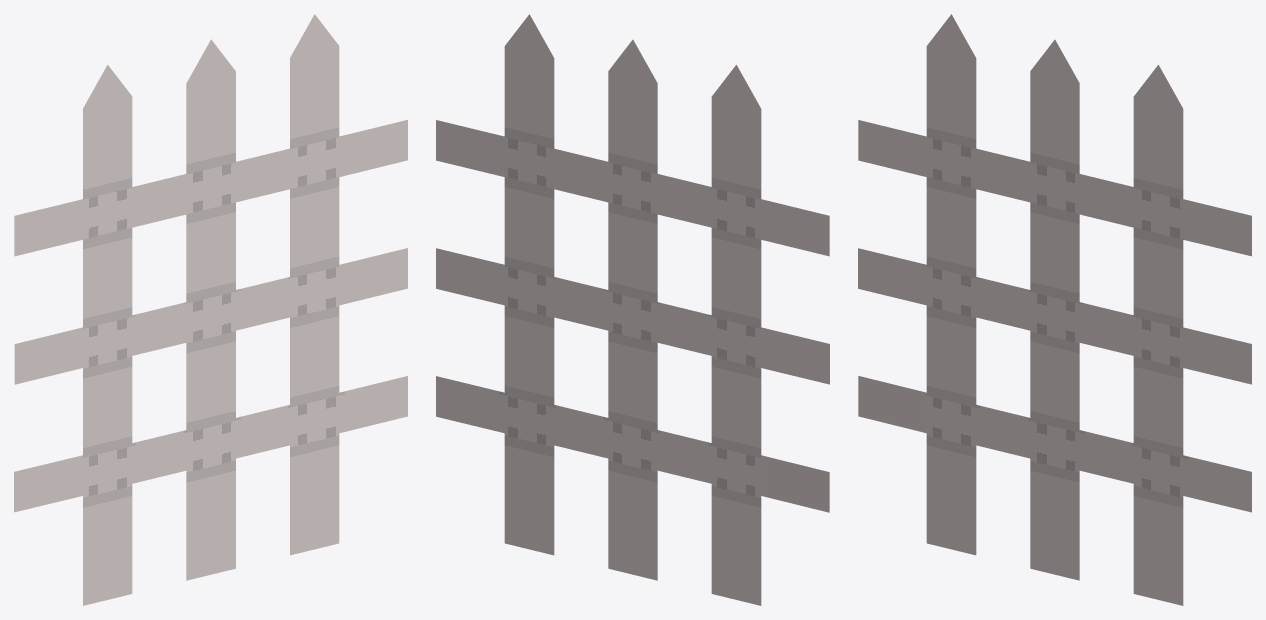
Rendered from Fence.fbx.
3 renders of one model, left to right at view 1: azimuth 30°, elevation 25°; view 2: azimuth 150°, elevation 25°; view 3: azimuth 330°, elevation 25°, orthographic.
Parts seen in each view (by area): view 1: Fence; view 2: Fence; view 3: Fence.
Part boxes in pixels (x1,y1,x2,y2): Fence: (14,14,407,605); Fence: (436,14,829,605); Fence: (858,14,1251,605).
Size of the model in its own units: 130 by 168 by 0.2073.
Materials: 1 (1 with a texture image).
